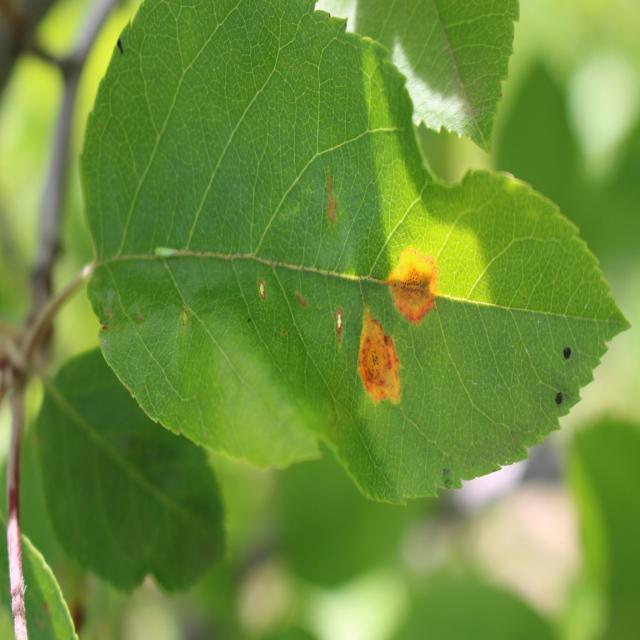Rust: (351, 300, 406, 419), (389, 236, 446, 334)
